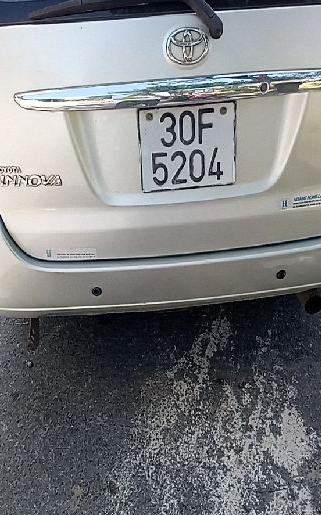Plate-iWeP: (136, 101, 243, 193)
